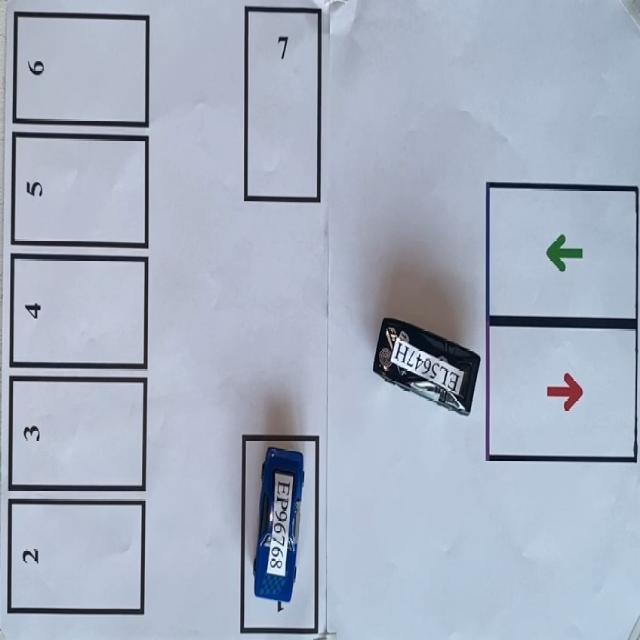car: (373, 318, 480, 413), (254, 448, 303, 610)
